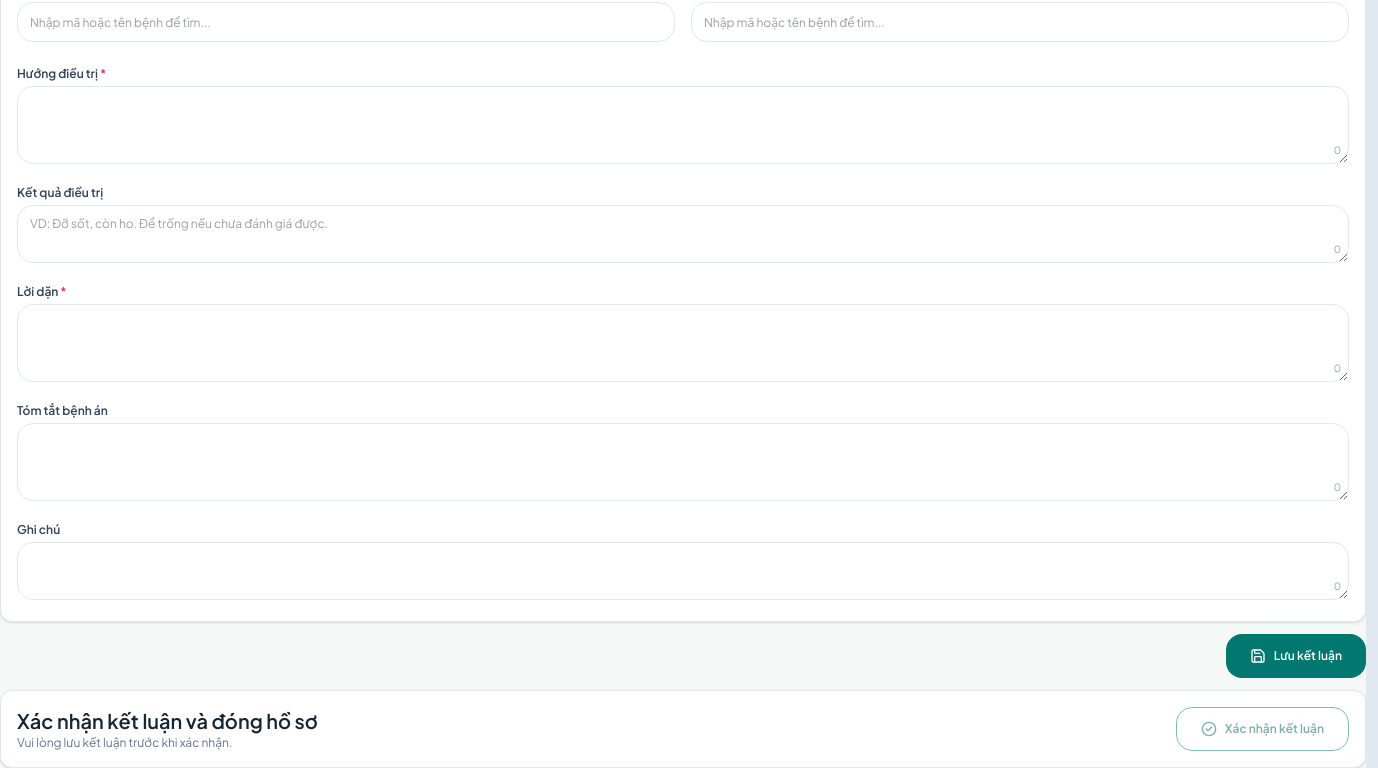
Test: ConclusionPanel (UC-56) › marks the empty required fields and does not save (EF-04, MSG02)
The image size is (1378, 768).
(page scrolled)
Click the button "Lưu kết luận": click(1296, 656) [1226,634,1366,678]
(page scrolled)
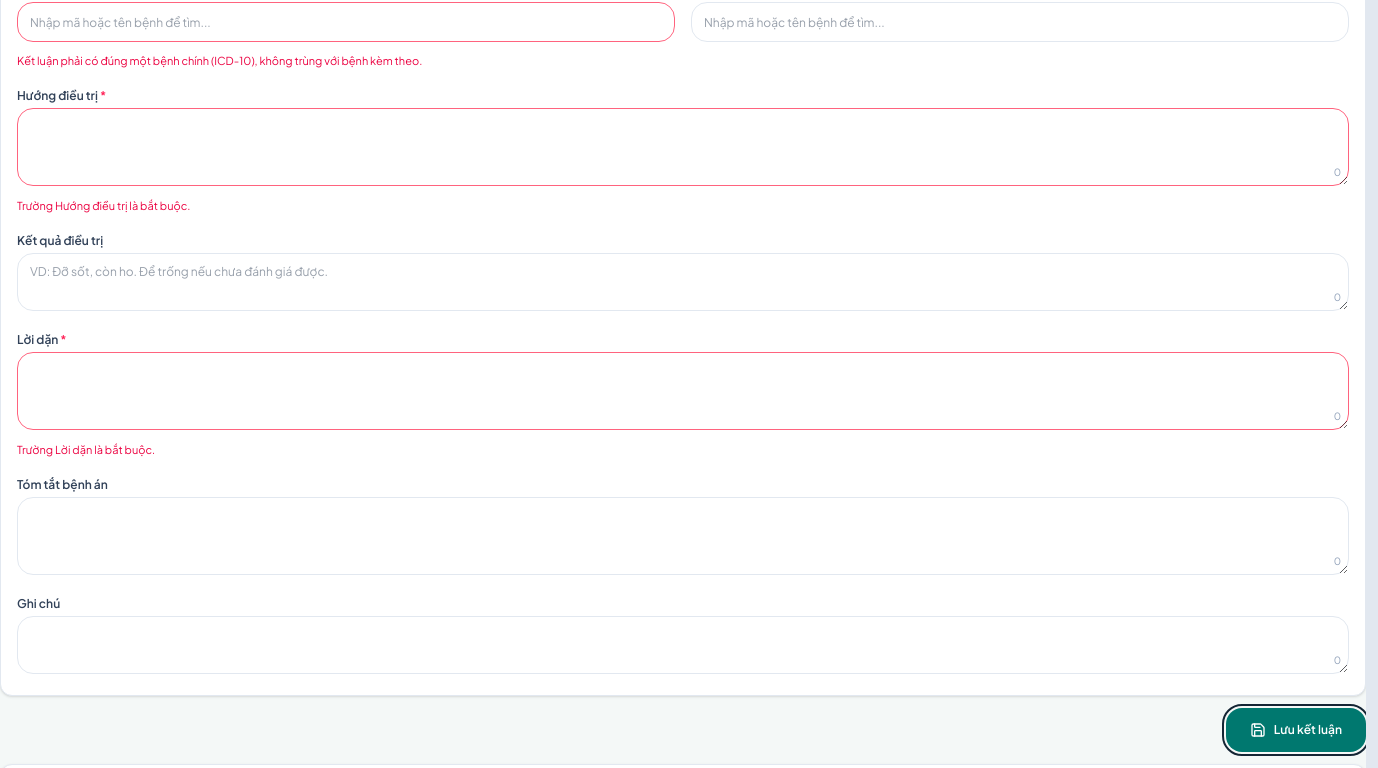
expect the text "Kết luận phải có đúng một bệnh chính (ICD-10), không trùng với bệnh kèm theo." is shown: met, box [17,54,422,67]
